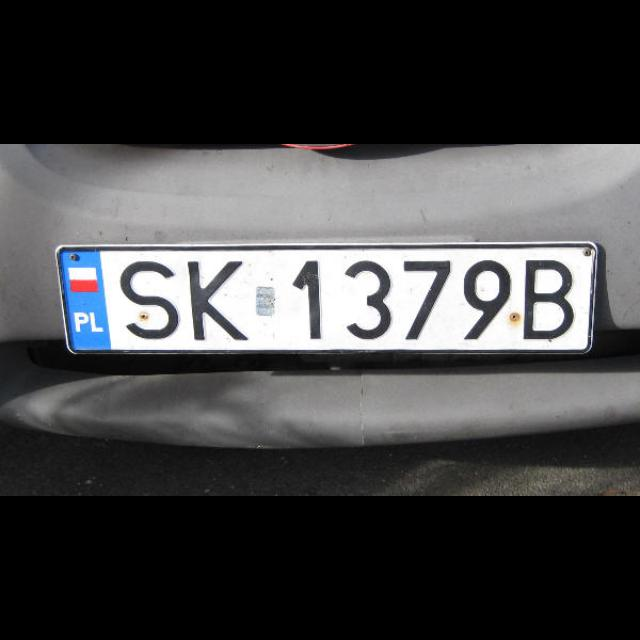pl_license_plate: (61, 248, 591, 346)
